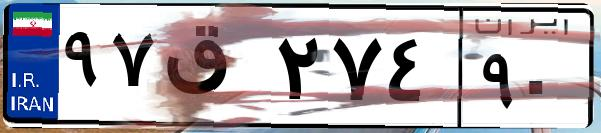0: (525, 38, 570, 115)
2: (270, 28, 330, 110)
4: (385, 28, 445, 110)
7: (330, 28, 385, 110), (110, 28, 158, 98)
9: (57, 26, 110, 100), (475, 38, 525, 113)
ق: (158, 20, 270, 120)
